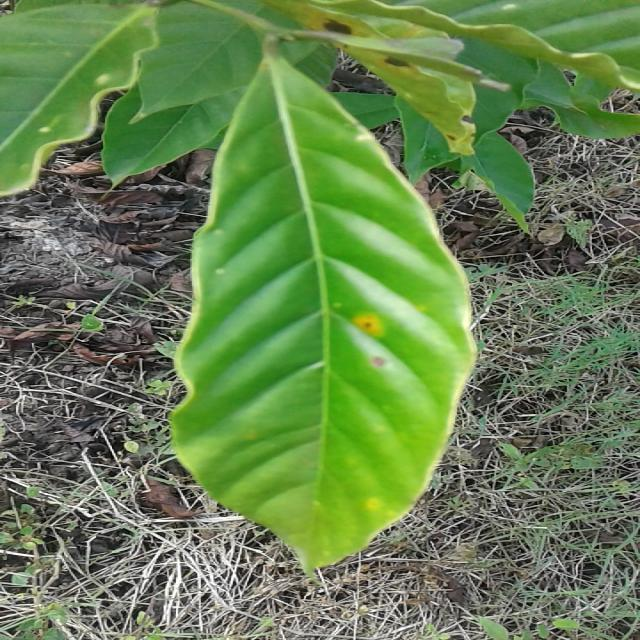Enfermedad-Roya: (168, 34, 477, 578)
